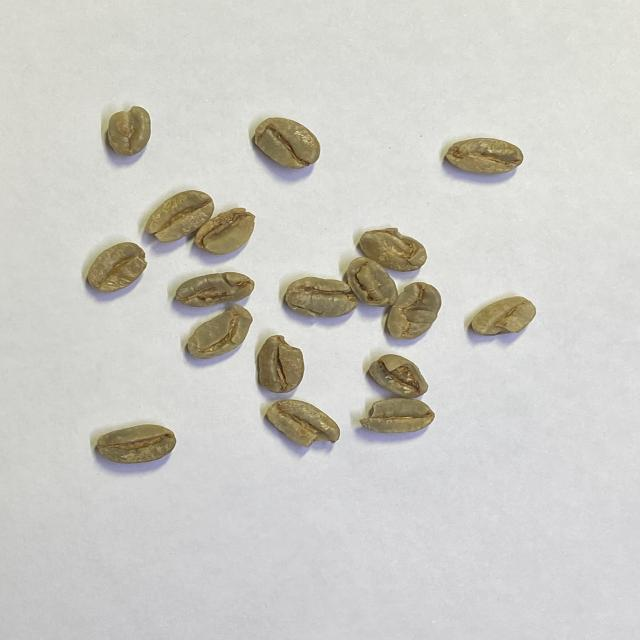bad: (252, 115, 323, 171), (265, 398, 341, 450), (143, 188, 214, 243), (186, 304, 253, 361), (385, 280, 443, 341), (283, 275, 359, 320), (87, 240, 148, 294), (358, 226, 428, 272), (172, 270, 256, 308), (193, 206, 256, 256), (444, 137, 524, 176), (256, 334, 305, 394), (470, 295, 538, 337), (346, 255, 399, 308), (368, 353, 429, 399), (358, 399, 436, 434), (105, 104, 153, 158)
good: (94, 423, 178, 466)
